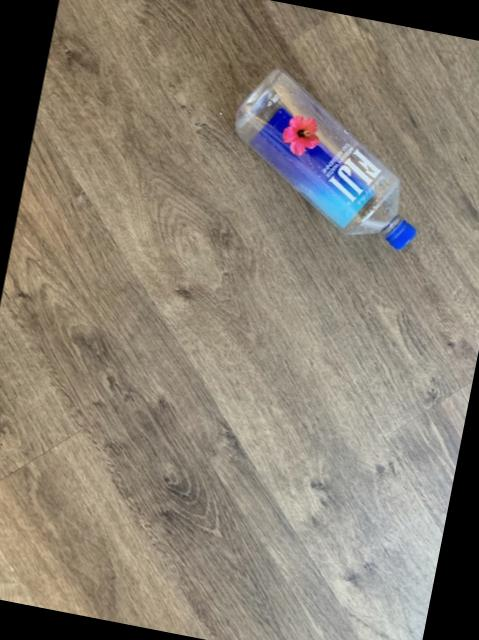plastic: (235, 71, 415, 250)
